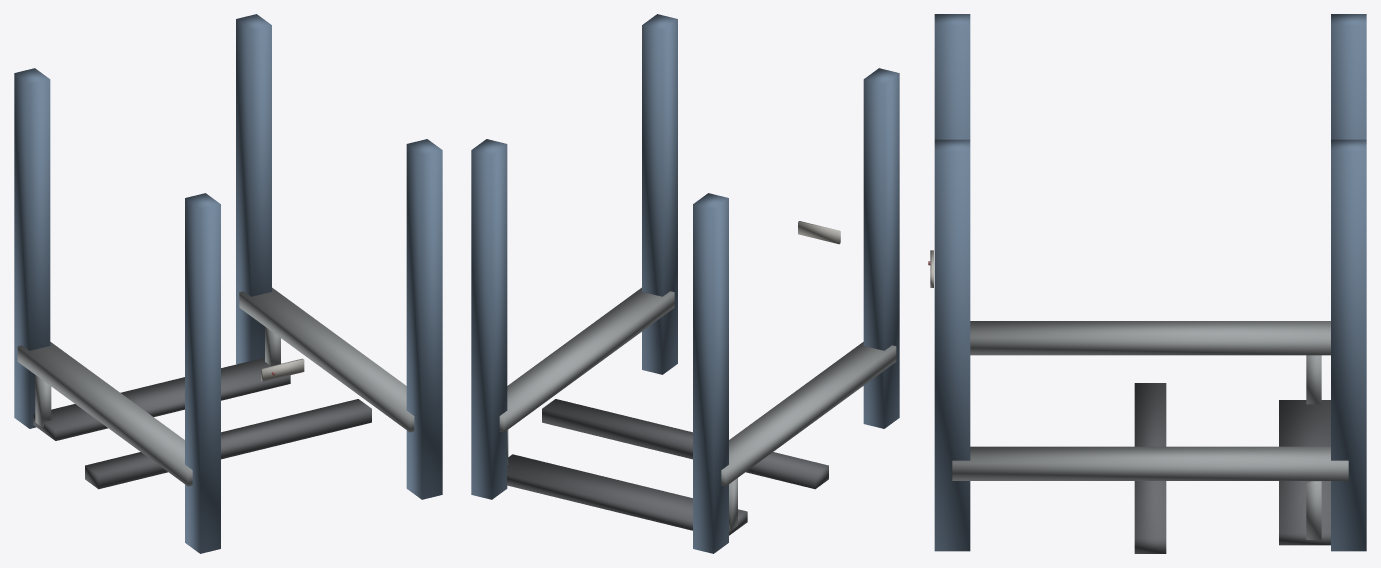
The model's file is four_post_car_lift__reinforced.glb.
The picture shows the model from 3 angles, left to right: view 1: azimuth 30°, elevation 25°; view 2: azimuth 150°, elevation 25°; view 3: azimuth 270°, elevation 25°; orthographic projection. The views are drawn at different scales.
Parts seen in each view (by area): view 1: world; view 2: world; view 3: world.
Part boxes in pixels (x1,y1,x2,y2): world: [14, 14, 442, 553]; world: [471, 14, 899, 553]; world: [928, 14, 1366, 553].
Size of the model in its own units: 1.91 by 2.3 by 2.28.
